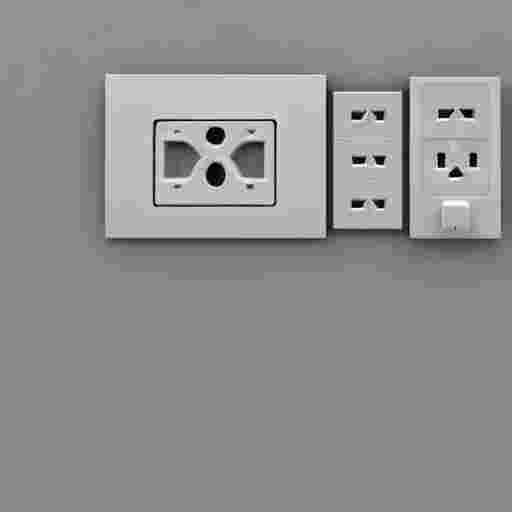power outlet: (105, 74, 326, 237), (409, 74, 501, 238), (332, 91, 402, 229)
